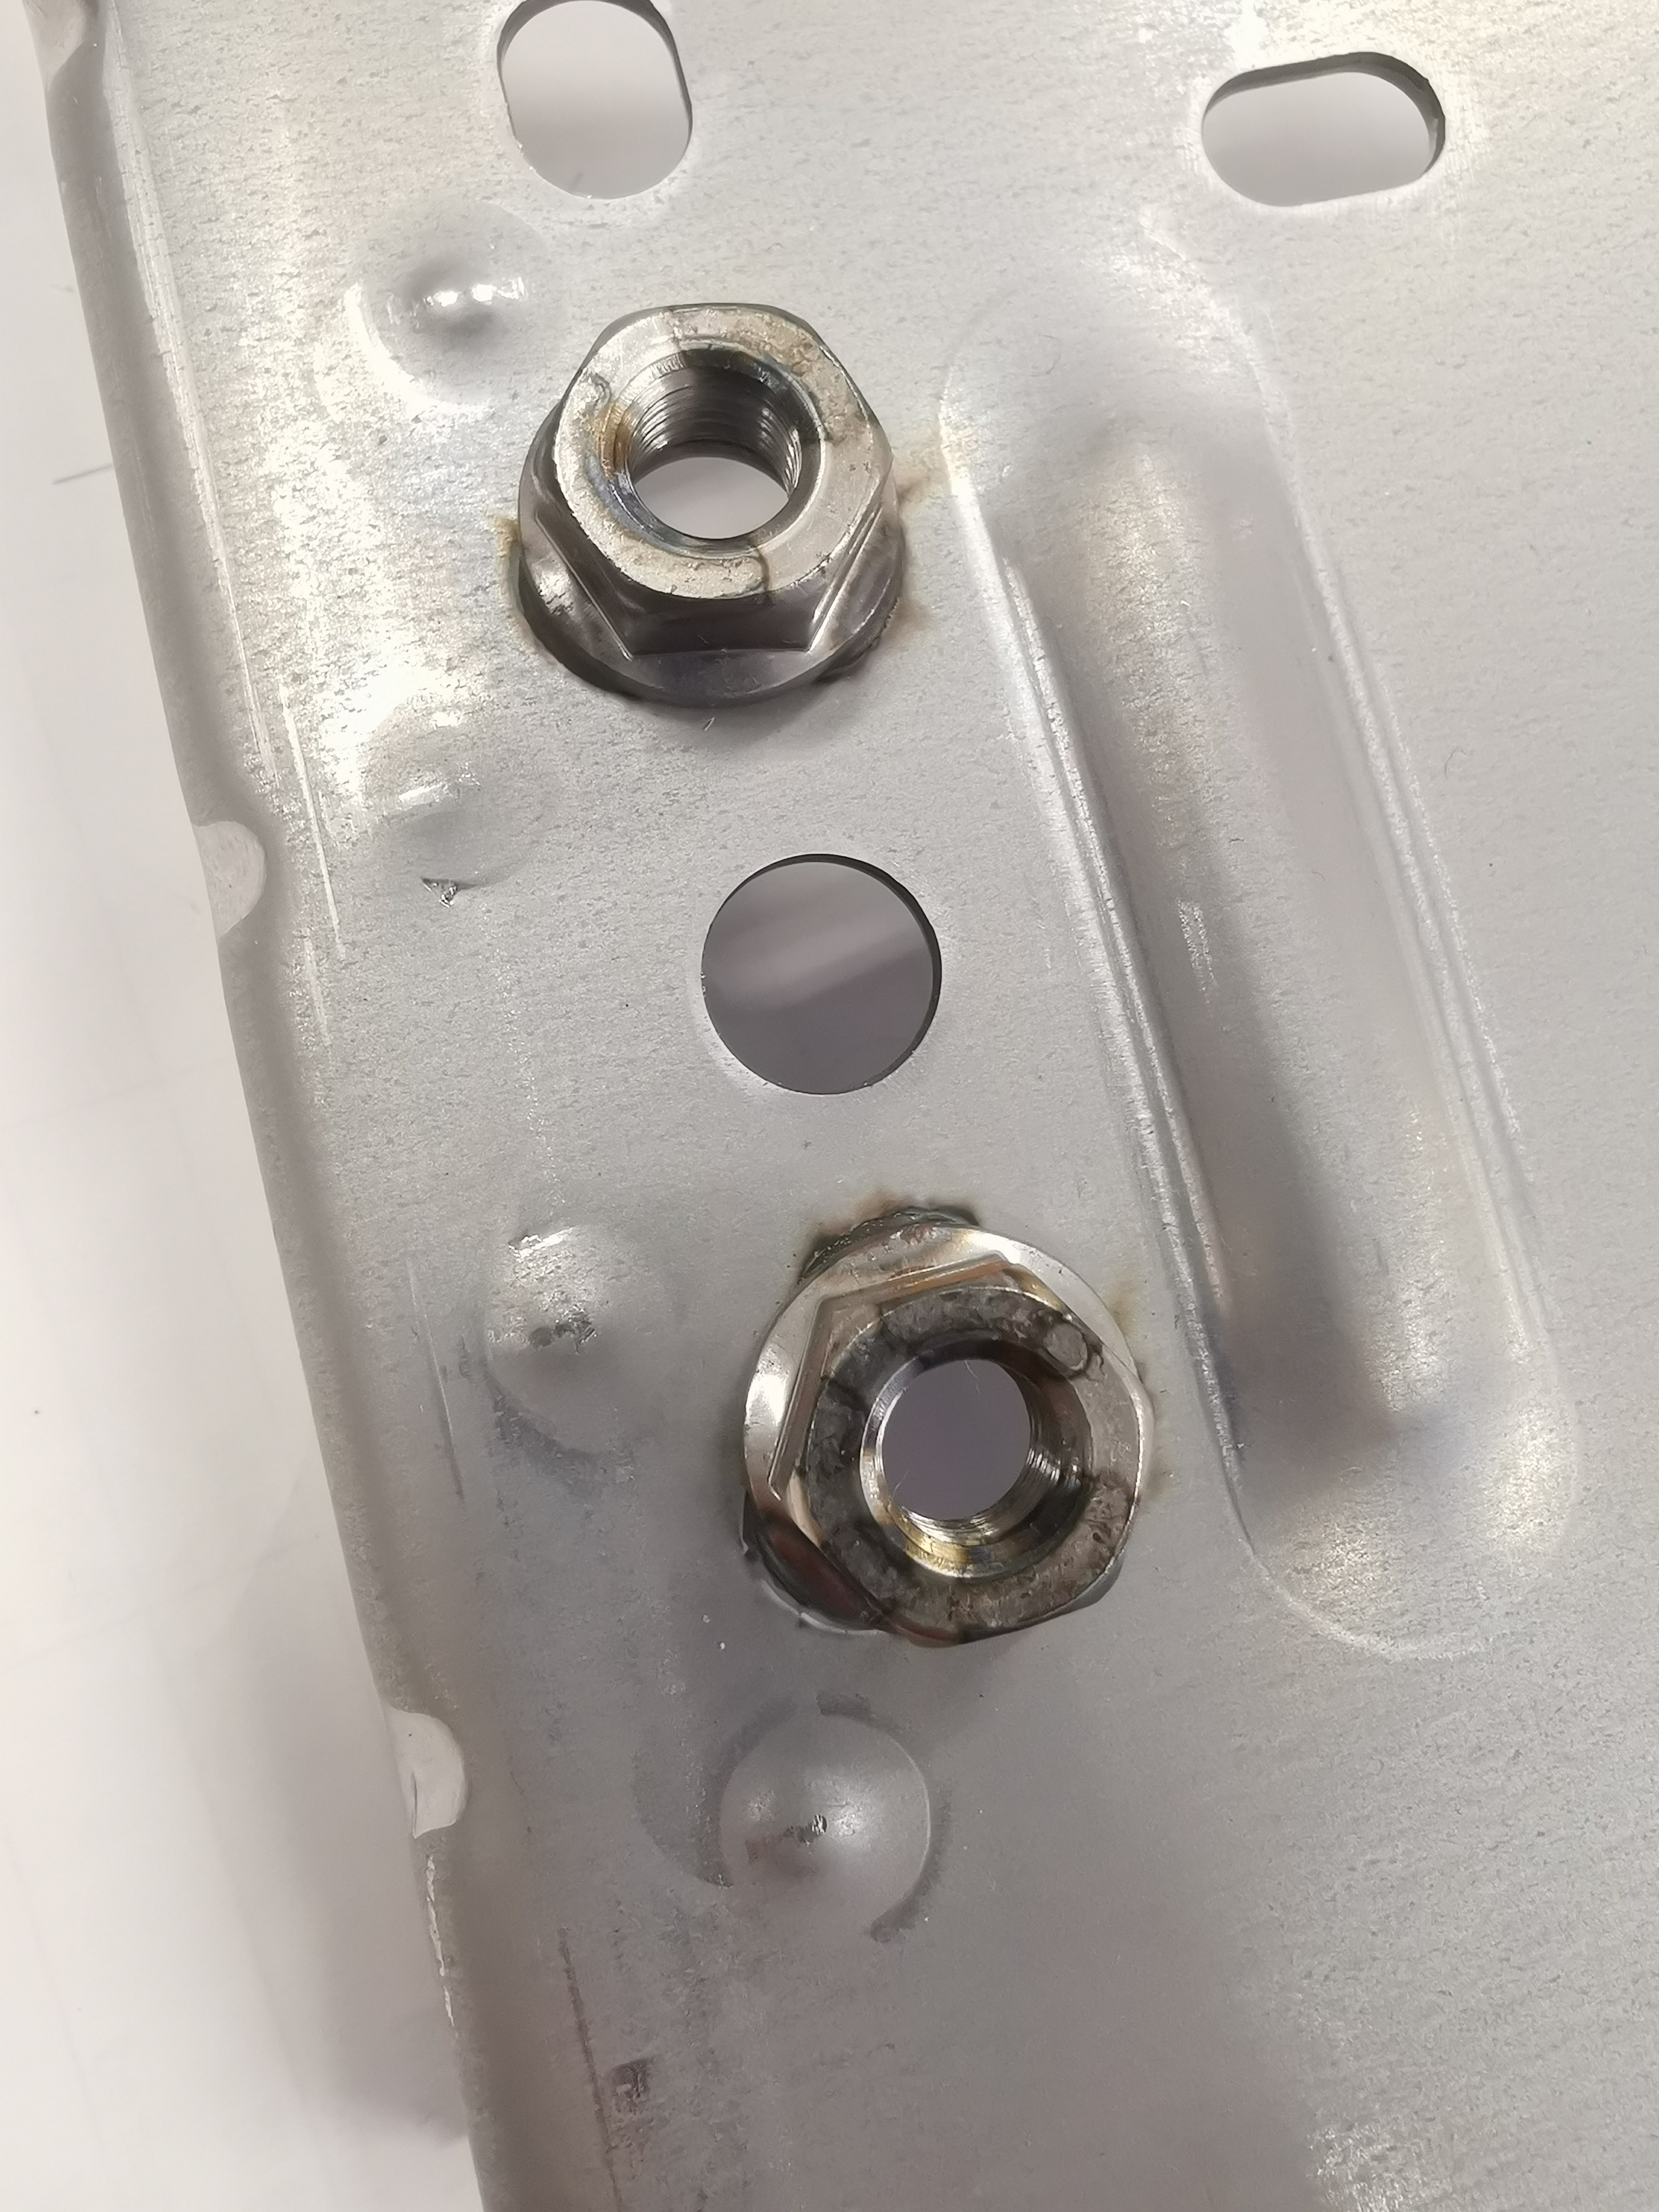dog: (727, 1195, 1159, 1656), (497, 294, 917, 726)
